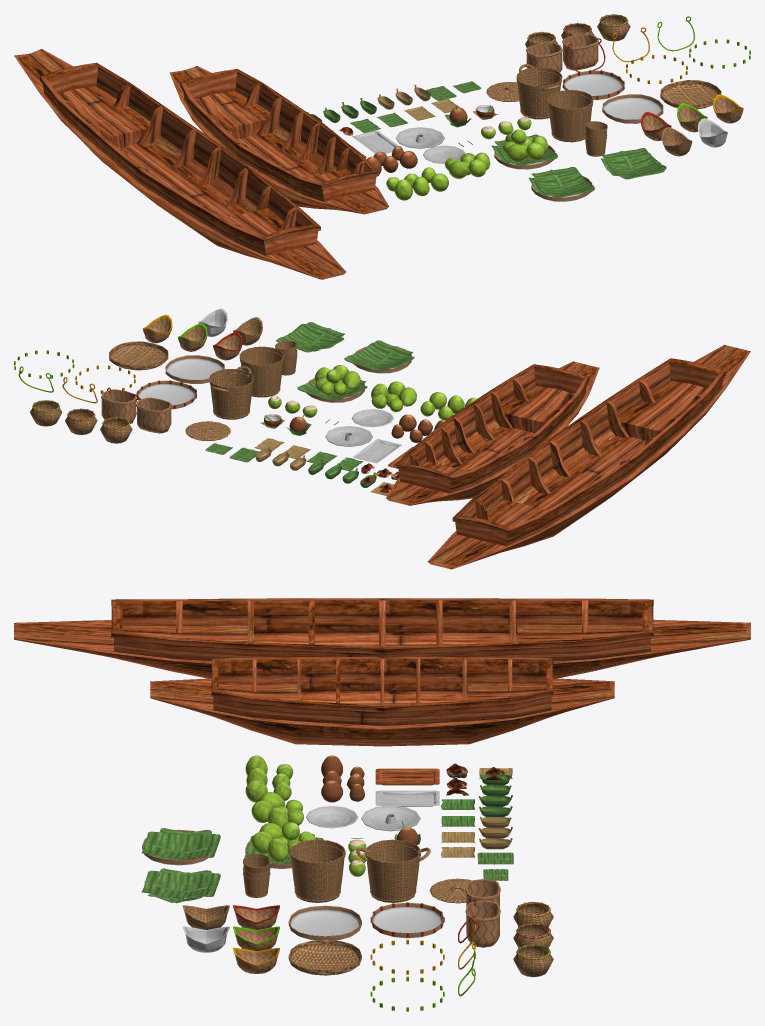
Rendered from CombinedScene.fbx.
3 renders of one model, top to bottom at view 1: azimuth 30°, elevation 25°; view 2: azimuth 150°, elevation 25°; view 3: azimuth 270°, elevation 25°, orthographic. The views are drawn at different scales.
Visible parts, largest first — view 1: WoodBoat_Long, WoodBoat, Basket_001, Basket_002, Basket_WithCoconuts, FlatBasket_004, Leave_ForBasket, FlatBasket_001, FlatBasket_003, FlatBasket_Body, RopeBakset_001, pasted__Basket_003 (+12 smaller); view 2: WoodBoat_Long, WoodBoat, Basket_002, Basket_WithCoconuts, Basket_001, FlatBasket_004, FlatBasket_003, FlatBasket_001, Leave_ForBasket, pasted__Basket_003, FlatBasket_Body, GreenCocount_Group (+14 smaller); view 3: WoodBoat_Long, WoodBoat, Basket_002, Basket_001, FlatBasket_004, FlatBasket_003, FlatBasket_001, Leave_ForBasket, FlatBasket_Body, Basket_WithCoconuts, RopeBakset_001, GreenCocount_Group (+15 smaller).
Boxes of the visible parts, box(x1,y1,x2,y2) form: WoodBoat_Long: box(14, 49, 345, 279); WoodBoat: box(170, 66, 388, 214); Basket_001: box(547, 90, 593, 142); Basket_002: box(516, 64, 562, 119); Basket_WithCoconuts: box(491, 129, 557, 169); FlatBasket_004: box(528, 167, 595, 201); Leave_ForBasket: box(600, 148, 666, 179); FlatBasket_001: box(602, 94, 663, 123); FlatBasket_003: box(660, 80, 721, 109); FlatBasket_Body: box(563, 70, 624, 100); RopeBakset_001: box(562, 33, 598, 70); pasted__Basket_003: box(526, 42, 562, 72); WoodBoat_Long: box(428, 345, 750, 569); WoodBoat: box(386, 361, 599, 505); Basket_002: box(209, 366, 253, 419); Basket_WithCoconuts: box(297, 365, 367, 402); Basket_001: box(239, 346, 283, 397); FlatBasket_004: box(344, 340, 414, 373); FlatBasket_003: box(109, 341, 168, 370); FlatBasket_001: box(165, 355, 224, 383); Leave_ForBasket: box(276, 322, 344, 352); pasted__Basket_003: box(136, 397, 171, 433); FlatBasket_Body: box(137, 380, 196, 409); GreenCocount_Group: box(371, 381, 416, 412); WoodBoat_Long: box(14, 598, 750, 678); WoodBoat: box(150, 656, 614, 746); Basket_002: box(356, 839, 430, 902); Basket_001: box(290, 839, 345, 902); FlatBasket_004: box(141, 828, 220, 865); FlatBasket_003: box(288, 940, 361, 975); FlatBasket_001: box(288, 905, 361, 940); Leave_ForBasket: box(141, 868, 220, 903); FlatBasket_Body: box(371, 902, 443, 938); Basket_WithCoconuts: box(244, 822, 323, 868); RopeBakset_001: box(465, 900, 500, 947); GreenCocount_Group: box(251, 792, 303, 828).
Bounding box in the file's own units: 34.45 × 2.9 × 29.27.
